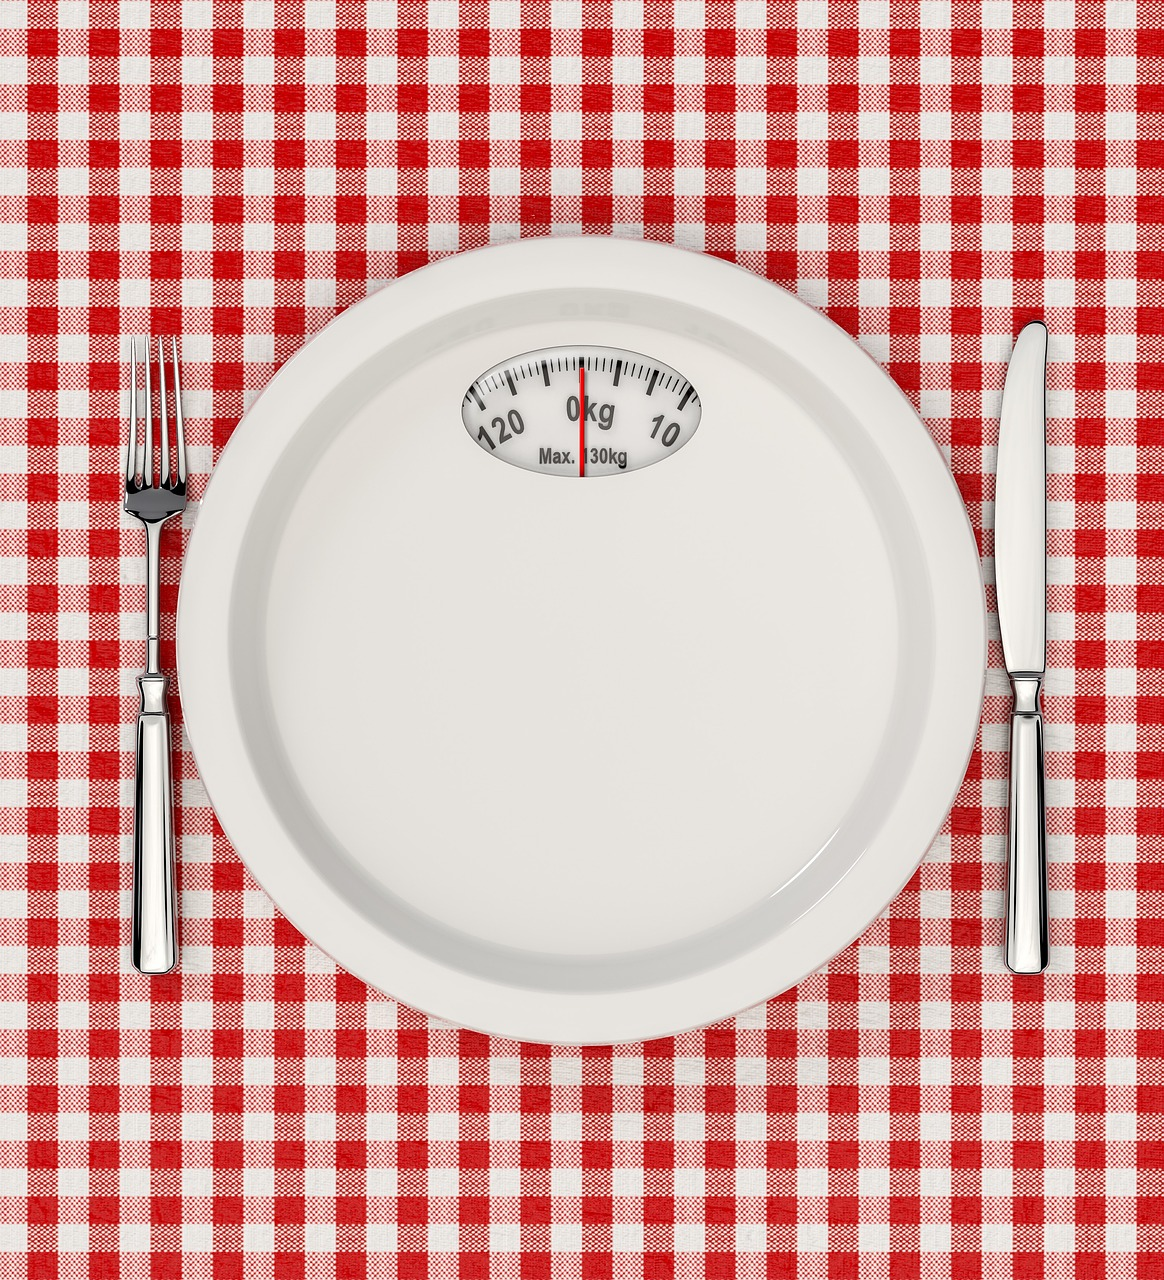knife: (986, 318, 1064, 977)
